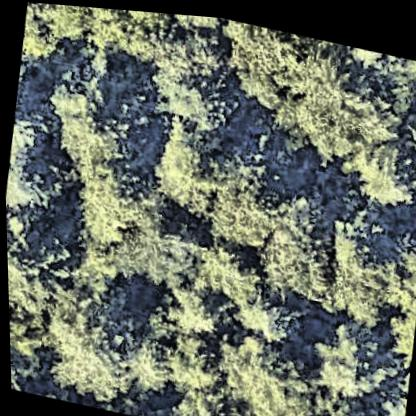tree-top: (273, 52, 404, 169), (33, 291, 138, 408), (251, 190, 343, 300), (41, 67, 139, 170), (318, 215, 404, 323), (212, 324, 312, 416), (199, 160, 290, 251), (28, 2, 164, 61), (142, 122, 223, 218), (217, 15, 301, 104), (112, 204, 197, 290), (141, 64, 239, 136), (307, 314, 388, 401), (3, 110, 64, 222), (67, 163, 141, 245), (5, 226, 68, 320), (152, 323, 225, 395), (155, 275, 230, 342), (158, 19, 233, 83), (226, 280, 299, 344), (356, 142, 415, 202), (163, 378, 251, 416), (118, 333, 169, 391), (61, 237, 113, 292), (298, 388, 390, 416), (401, 110, 416, 190), (387, 48, 416, 85)
